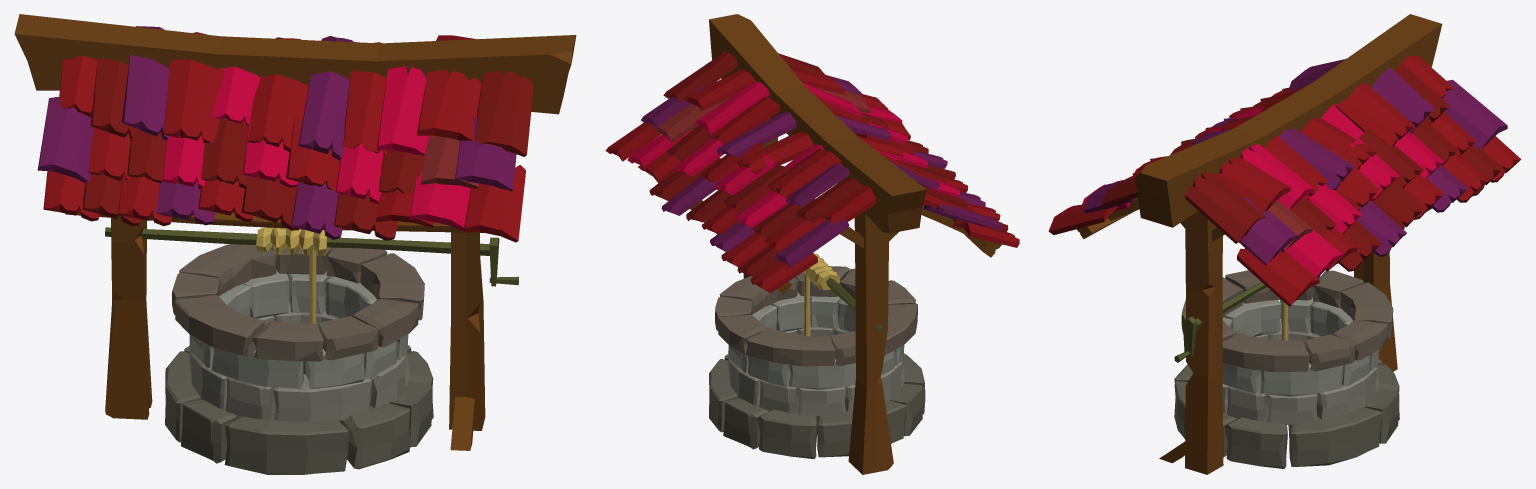
File: vodnjak.glb
The picture shows the model from 3 angles, left to right: view 1: azimuth 30°, elevation 25°; view 2: azimuth 150°, elevation 25°; view 3: azimuth 270°, elevation 25°; orthographic projection. The views are drawn at different scales.
Visible parts, largest first — view 1: wXZrHISOlxIIRjpe; view 2: wXZrHISOlxIIRjpe; view 3: wXZrHISOlxIIRjpe.
Boxes of the visible parts, bbox=[...] form: wXZrHISOlxIIRjpe: bbox=[14, 14, 576, 474]; wXZrHISOlxIIRjpe: bbox=[605, 14, 1019, 474]; wXZrHISOlxIIRjpe: bbox=[1048, 14, 1521, 474].
Size of the model in its own units: 2.48 by 1.79 by 2.36.
